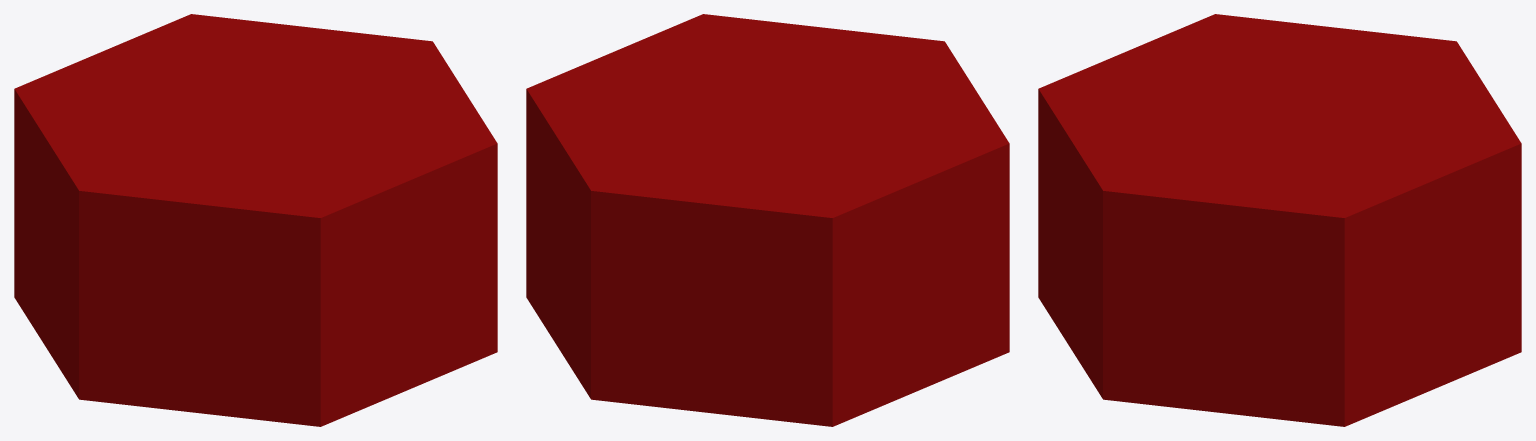
File: Deco_gate_button.FBX
The picture shows the model from 3 angles, left to right: view 1: azimuth 30°, elevation 25°; view 2: azimuth 150°, elevation 25°; view 3: azimuth 270°, elevation 25°; orthographic projection.
Visible parts, largest first — view 1: Deco_Gate_Button; view 2: Deco_Gate_Button; view 3: Deco_Gate_Button.
Part boxes in pixels (x1,y1,x2,y2): Deco_Gate_Button: (14, 14, 497, 426); Deco_Gate_Button: (526, 14, 1009, 426); Deco_Gate_Button: (1038, 14, 1521, 426).
Size of the model in its own units: 11.16 by 5.32 by 11.16.
